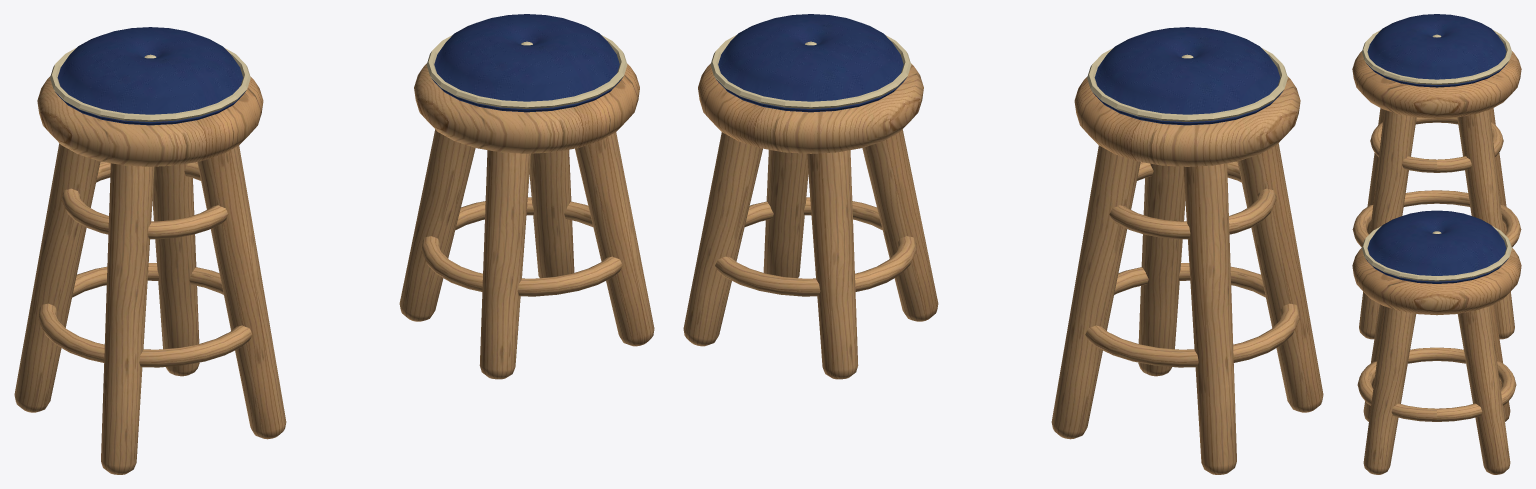
File: tillstool.glb
3 views of the same model, side by side, from view 1: azimuth 30°, elevation 25°; view 2: azimuth 150°, elevation 25°; view 3: azimuth 270°, elevation 25° (orthographic). The views are drawn at different scales.
Visible parts, largest first — view 1: TillStoolHighCushion, TillStoolLowCushion, TillStoolHighLeg1, TillStoolHighLeg0, TillStoolLowSeat, TillStoolHighSeat, TillStoolHighLeg2, TillStoolLowLeg1, TillStoolLowLeg0, TillStoolLowLeg2, TillStoolHighLeg3, TillStoolHighRing0 (+5 smaller); view 2: TillStoolHighCushion, TillStoolLowCushion, TillStoolHighLeg2, TillStoolHighLeg3, TillStoolLowSeat, TillStoolHighSeat, TillStoolHighLeg1, TillStoolLowLeg2, TillStoolLowLeg3, TillStoolLowLeg1, TillStoolHighLeg0, TillStoolHighRing0 (+5 smaller); view 3: TillStoolLowCushion, TillStoolHighCushion, TillStoolHighSeat, TillStoolLowSeat, TillStoolLowLeg0, TillStoolLowLeg3, TillStoolHighLeg0, TillStoolHighLeg3, TillStoolLowRing0, TillStoolHighRing0, TillStoolHighRing1, TillStoolLowPiping (+5 smaller).
Boxes of the visible parts, box(x1,y1,x2,y2) form: TillStoolHighCushion: box(55, 27, 245, 125); TillStoolLowCushion: box(431, 14, 621, 112); TillStoolHighLeg1: box(101, 163, 154, 474); TillStoolHighLeg0: box(197, 145, 286, 439); TillStoolLowSeat: box(414, 63, 639, 153); TillStoolHighSeat: box(37, 76, 263, 166); TillStoolHighLeg2: box(14, 143, 100, 412); TillStoolLowLeg1: box(479, 150, 530, 379); TillStoolLowLeg0: box(575, 132, 654, 346); TillStoolLowLeg2: box(399, 129, 475, 321); TillStoolHighLeg3: box(152, 163, 199, 376); TillStoolHighRing0: box(38, 263, 252, 367); TillStoolHighCushion: box(1092, 27, 1282, 125); TillStoolLowCushion: box(716, 14, 906, 112); TillStoolHighLeg2: box(1183, 163, 1236, 474); TillStoolHighLeg3: box(1051, 145, 1140, 439); TillStoolLowSeat: box(698, 63, 923, 153); TillStoolHighSeat: box(1074, 76, 1300, 166); TillStoolHighLeg1: box(1237, 143, 1323, 412); TillStoolLowLeg2: box(807, 150, 858, 379); TillStoolLowLeg3: box(683, 132, 762, 346); TillStoolLowLeg1: box(862, 129, 938, 321); TillStoolHighLeg0: box(1138, 163, 1185, 376); TillStoolHighRing0: box(1085, 263, 1299, 367); TillStoolLowCushion: box(1365, 210, 1508, 283); TillStoolHighCushion: box(1366, 14, 1507, 87); TillStoolHighSeat: box(1352, 51, 1521, 118); TillStoolLowSeat: box(1352, 248, 1521, 315); TillStoolLowLeg0: box(1363, 306, 1416, 474); TillStoolLowLeg3: box(1457, 306, 1510, 474); TillStoolHighLeg0: box(1359, 110, 1416, 339); TillStoolHighLeg3: box(1457, 110, 1514, 339); TillStoolLowRing0: box(1357, 347, 1516, 421); TillStoolHighRing0: box(1352, 190, 1521, 247); TillStoolHighRing1: box(1370, 117, 1503, 172); TillStoolLowPiping: box(1362, 226, 1511, 281).
Bounding box in the file's own units: 0.76 × 0.4742 × 0.26.
Materials: 4 (3 with a texture image).
